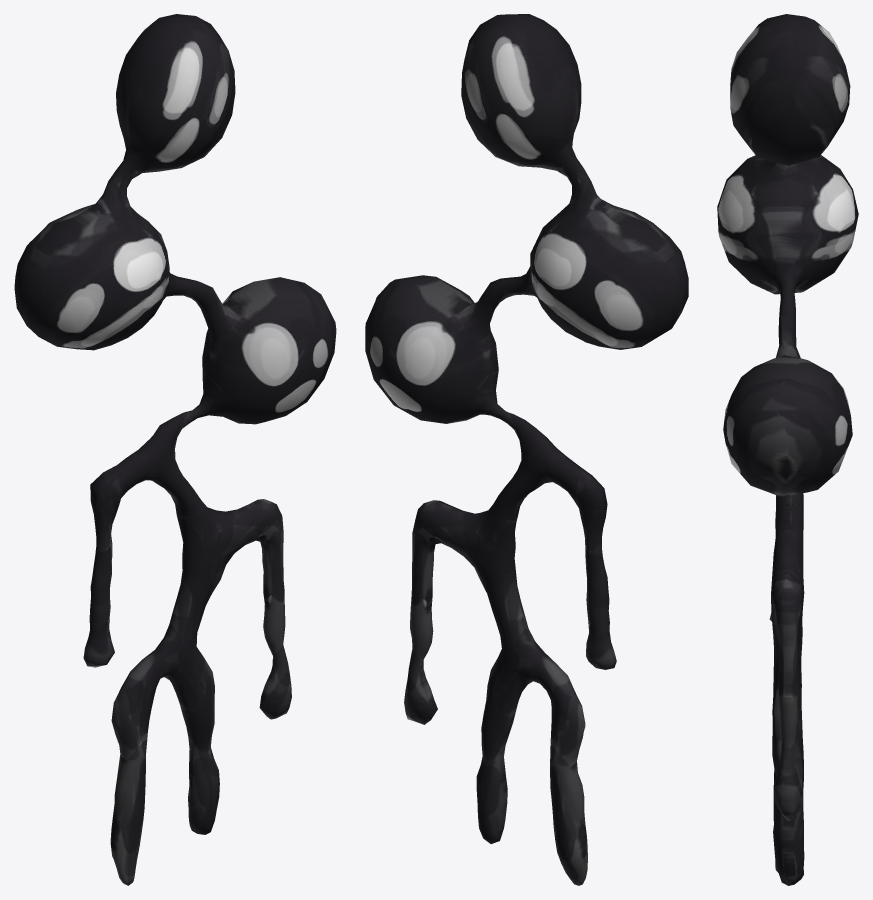
The model's file is moster3_3.fbx.
3 renders of one model, left to right at view 1: azimuth 30°, elevation 25°; view 2: azimuth 150°, elevation 25°; view 3: azimuth 270°, elevation 25°, orthographic. The views are drawn at different scales.
Parts seen in each view (by area): view 1: Cube.00r1; view 2: Cube.00r1; view 3: Cube.00r1.
Boxes of the visible parts, left/top/right/bottom form: Cube.00r1: left=14, top=14, right=336, bottom=885; Cube.00r1: left=365, top=14, right=688, bottom=885; Cube.00r1: left=717, top=14, right=858, bottom=885.
Bounding box in the file's own units: 47.02 × 124 × 18.05.
1 material, 1 textured.
